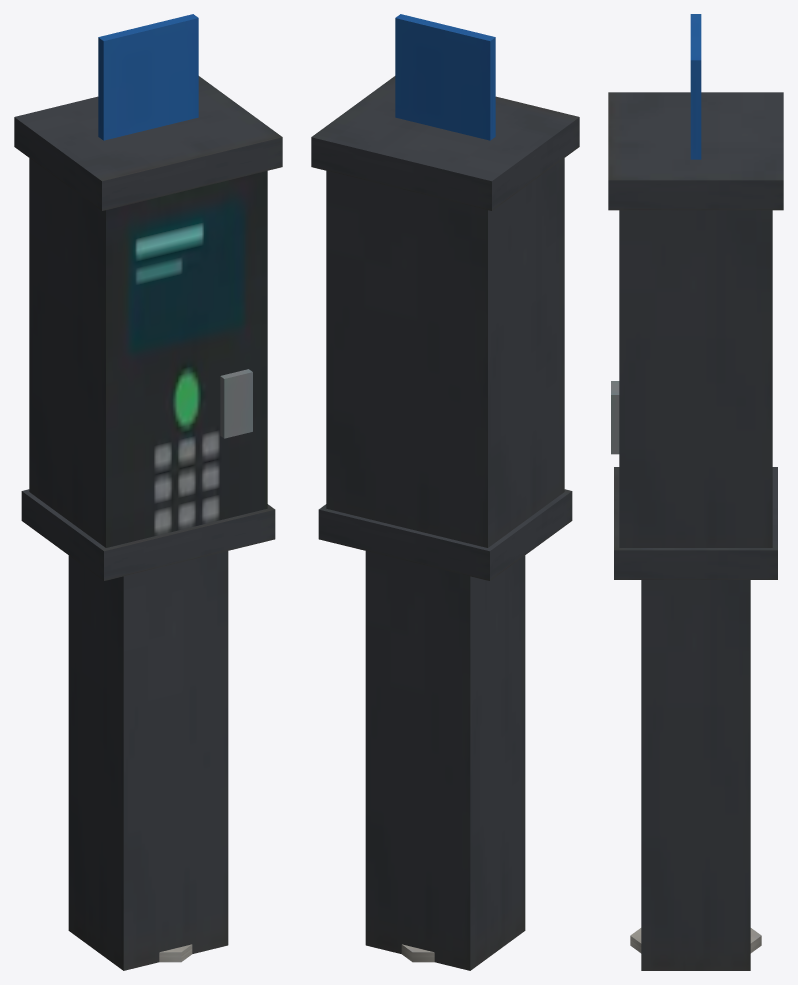
Rendered from horodateur_lod1.glb.
3 views of the same model, side by side, from view 1: azimuth 30°, elevation 25°; view 2: azimuth 150°, elevation 25°; view 3: azimuth 270°, elevation 25° (orthographic).
Parts seen in each view (by area): view 1: horodateur; view 2: horodateur; view 3: horodateur.
Boxes of the visible parts, x1,y1,x2,y2 form: horodateur: (14,14,282,970); horodateur: (311,14,579,970); horodateur: (608,14,783,970).
Bounding box in the file's own units: 0.38 × 1.83 × 0.32.
Materials: 1 (1 with a texture image).
